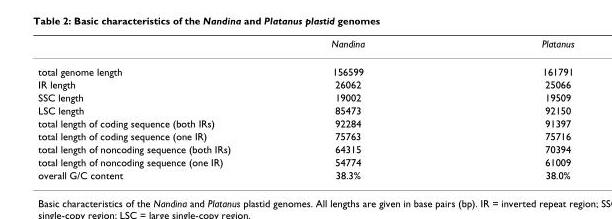table: (37, 37, 573, 180)
table column: (37, 37, 280, 180), (280, 37, 452, 180), (452, 37, 573, 180)
table column header: (37, 37, 573, 57)
table row: (37, 37, 573, 57), (37, 57, 573, 77), (37, 77, 573, 90), (37, 90, 573, 103), (37, 103, 573, 116), (37, 116, 573, 129), (37, 129, 573, 142), (37, 142, 573, 155), (37, 155, 573, 168), (37, 168, 573, 180)
